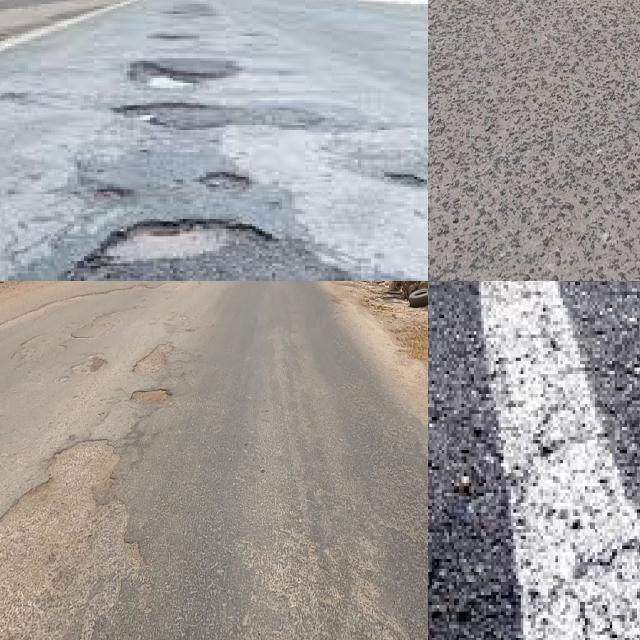Pothole: (0, 441, 142, 640), (74, 219, 279, 271), (12, 326, 71, 370), (133, 343, 172, 374), (131, 390, 168, 403)
